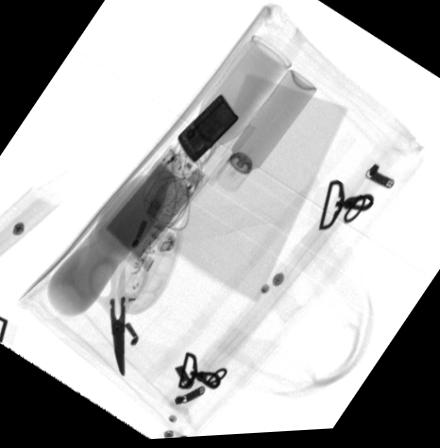Lighter: (178, 94, 239, 165)
Powerbank: (98, 146, 212, 273)
Scissors: (86, 253, 149, 379)
Sprayer: (213, 73, 319, 199)
